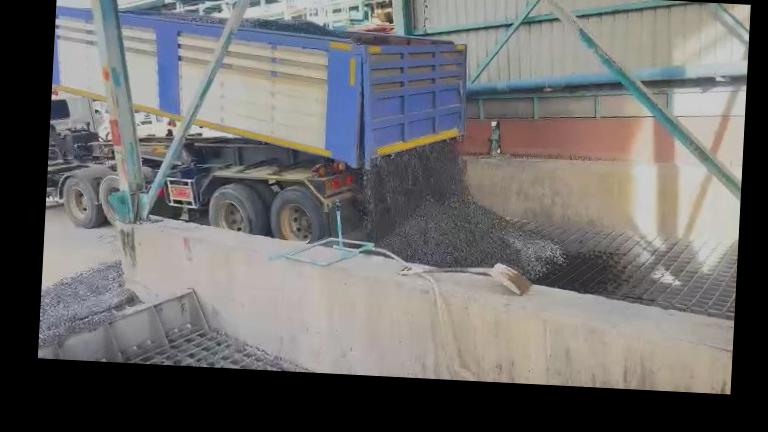gravel: (364, 141, 564, 278), (39, 261, 136, 346), (242, 18, 351, 38), (130, 12, 226, 24)
